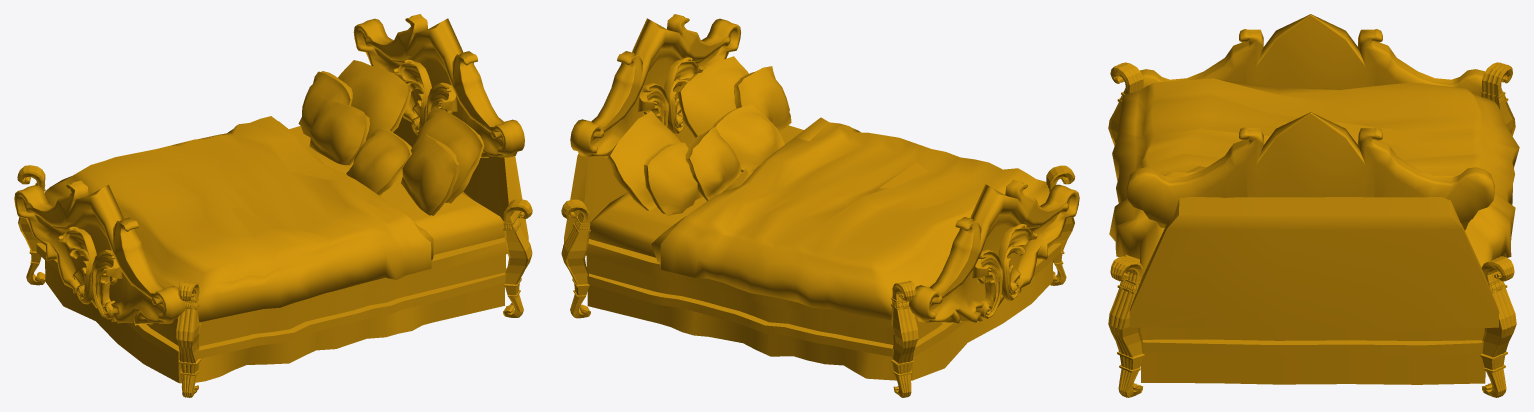
Rendered from cama.fbx.
3 renders of one model, left to right at view 1: azimuth 30°, elevation 25°; view 2: azimuth 150°, elevation 25°; view 3: azimuth 270°, elevation 25°, orthographic. The views are drawn at different scales.
Parts seen in each view (by area): view 1: camaDormitorio_0008:camaPrincipal, camaDormitorio_0008:cabecero2, camaDormitorio_0008:cabecero1, camaDormitorio_0008:almohada, camaDormitorio_0008:almohada1, camaDormitorio_0008:almohada4, camaDormitorio_0008:almohada2, camaDormitorio_0008:almohada3, moldurasArmario11, moldurasArmario9, camaDormitorio_0008:almohada5, adornoParedDerecho2 (+4 smaller); view 2: camaDormitorio_0008:camaPrincipal, camaDormitorio_0008:cabecero2, camaDormitorio_0008:cabecero1, camaDormitorio_0008:almohada3, camaDormitorio_0008:almohada, camaDormitorio_0008:almohada5, camaDormitorio_0008:almohada2, camaDormitorio_0008:almohada4, moldurasArmario10, moldurasArmario12, camaDormitorio_0008:almohada1, adornoParedIzquierdo2 (+4 smaller); view 3: camaDormitorio_0008:camaPrincipal, camaDormitorio_0008:cabecero1, camaDormitorio_0008:cabecero2, moldurasArmario11, moldurasArmario12, moldurasArmario10, moldurasArmario9.
Boxes of the visible parts, box(x1,y1,x2,y2) form: camaDormitorio_0008:camaPrincipal: box(36, 116, 528, 383); camaDormitorio_0008:cabecero2: box(14, 180, 185, 325); camaDormitorio_0008:cabecero1: box(353, 14, 524, 157); camaDormitorio_0008:almohada: box(338, 60, 411, 140); camaDormitorio_0008:almohada1: box(401, 134, 459, 215); camaDormitorio_0008:almohada4: box(309, 100, 369, 165); camaDormitorio_0008:almohada2: box(346, 127, 411, 195); camaDormitorio_0008:almohada3: box(412, 107, 484, 203); moldurasArmario11: box(503, 199, 532, 317); moldurasArmario9: box(176, 280, 201, 397); camaDormitorio_0008:almohada5: box(298, 71, 352, 137); adornoParedDerecho2: box(91, 249, 122, 319); camaDormitorio_0008:camaPrincipal: box(564, 117, 1061, 380); camaDormitorio_0008:cabecero2: box(908, 180, 1079, 324); camaDormitorio_0008:cabecero1: box(570, 14, 740, 157); camaDormitorio_0008:almohada3: box(677, 56, 748, 137); camaDormitorio_0008:almohada: box(607, 111, 680, 210); camaDormitorio_0008:almohada5: box(644, 142, 702, 216); camaDormitorio_0008:almohada2: box(711, 104, 784, 172); camaDormitorio_0008:almohada4: box(685, 126, 741, 200); moldurasArmario10: box(891, 280, 918, 397); moldurasArmario12: box(561, 199, 590, 318); camaDormitorio_0008:almohada1: box(734, 66, 791, 131); adornoParedIzquierdo2: box(972, 249, 1003, 318); camaDormitorio_0008:camaPrincipal: box(1109, 78, 1519, 384); camaDormitorio_0008:cabecero1: box(1126, 112, 1494, 224); camaDormitorio_0008:cabecero2: box(1140, 14, 1484, 96); moldurasArmario11: box(1108, 256, 1144, 397); moldurasArmario12: box(1480, 256, 1516, 397); moldurasArmario10: box(1481, 62, 1515, 135); moldurasArmario9: box(1108, 62, 1143, 145).
Bounding box in the file's own units: 1259 × 763 × 991.
